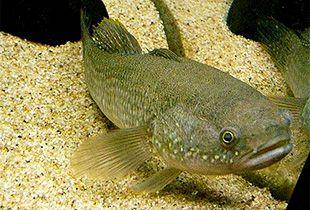Goby: (63, 8, 307, 200)
